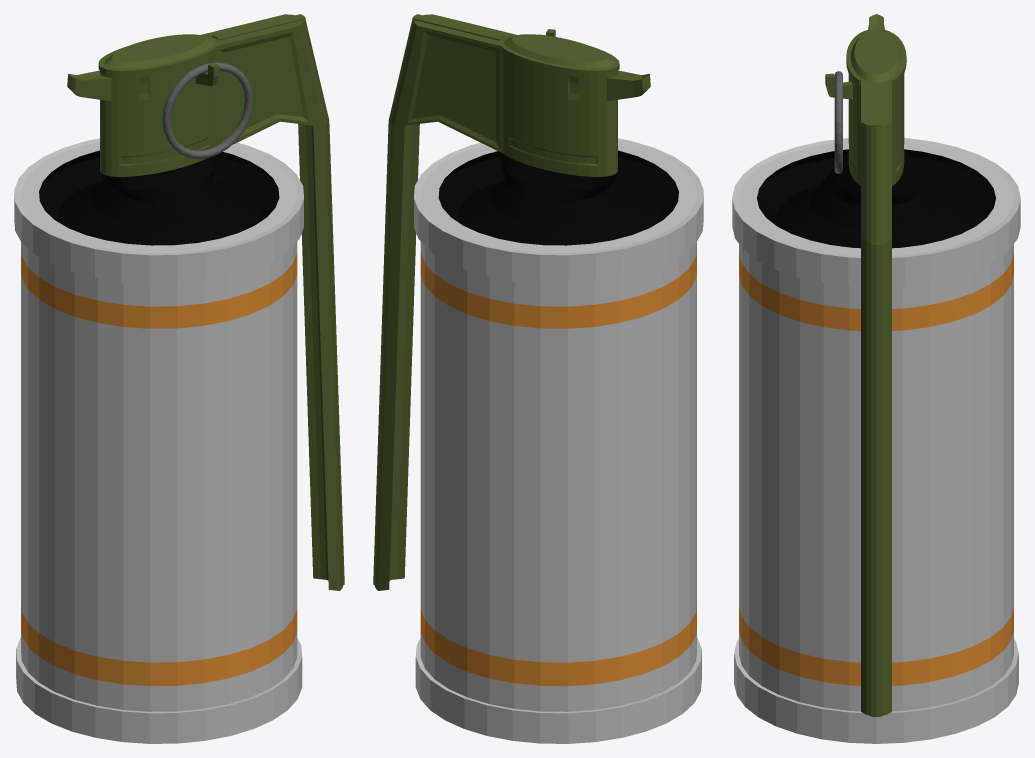
File: smoke.fbx
3 views of the same model, side by side, from view 1: azimuth 30°, elevation 25°; view 2: azimuth 150°, elevation 25°; view 3: azimuth 270°, elevation 25° (orthographic).
Visible parts, largest first — view 1: Cylinder; view 2: Cylinder; view 3: Cylinder.
Boxes of the visible parts, box(x1,y1,x2,y2) form: Cylinder: box(14, 14, 344, 743); Cylinder: box(373, 14, 703, 743); Cylinder: box(732, 14, 1020, 743).
Size of the model in its own units: 218 by 427 by 177.
